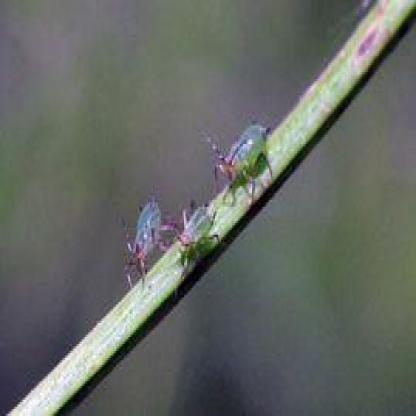aphid: (207, 121, 274, 192), (124, 187, 172, 284), (166, 200, 226, 264)
